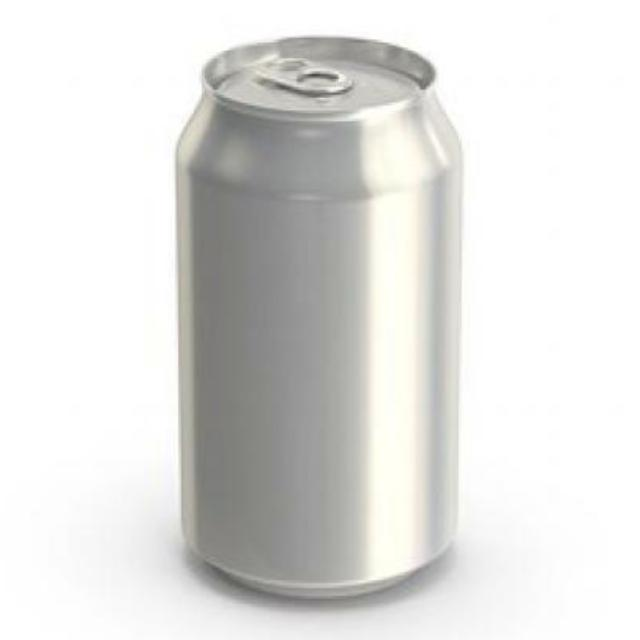metal: (180, 35, 463, 594)
